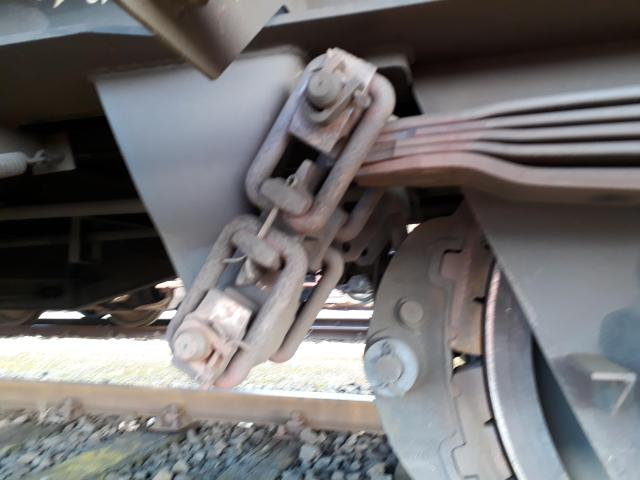blattfederww: (335, 104, 640, 197)
